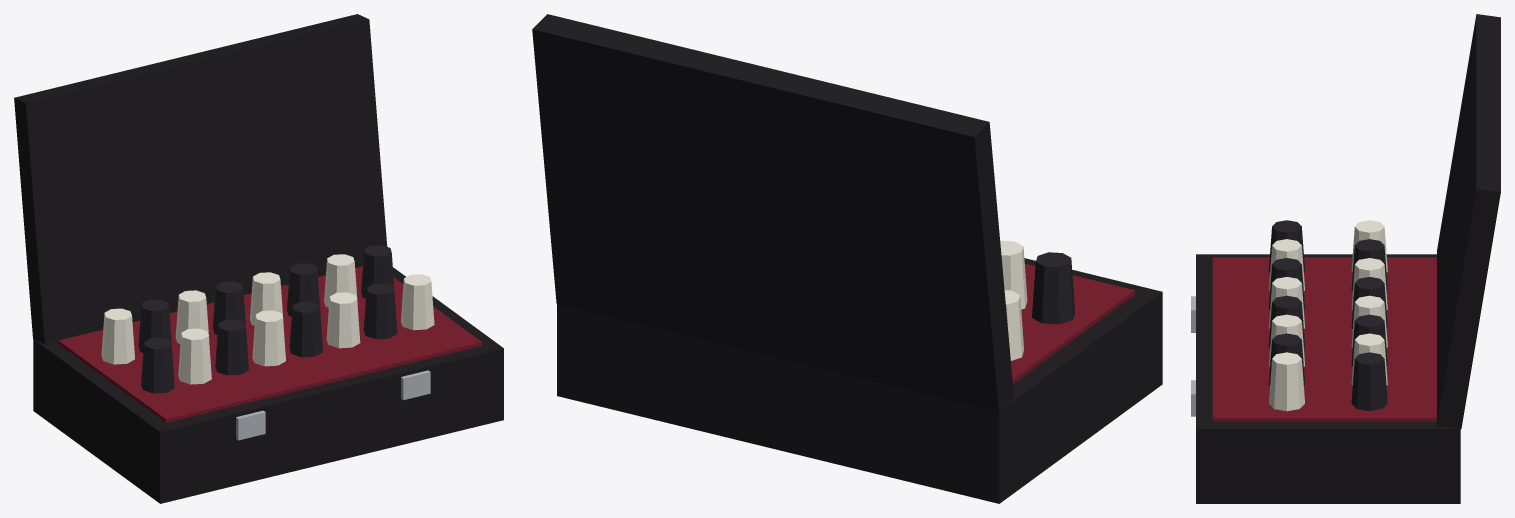
The model's file is chess_briefcase.glb.
The picture shows the model from 3 angles, left to right: view 1: azimuth 30°, elevation 25°; view 2: azimuth 150°, elevation 25°; view 3: azimuth 270°, elevation 25°; orthographic projection. The views are drawn at different scales.
Visible parts, largest first — view 1: lid_briefcase_leather, case_briefcase_leather, case_briefcase_lining, pieces_chess_piece_white, pieces_chess_piece_black, locks_briefcase_steel; view 2: lid_briefcase_leather, case_briefcase_leather, case_briefcase_lining, pieces_chess_piece_black, pieces_chess_piece_white; view 3: case_briefcase_lining, case_briefcase_leather, lid_briefcase_leather, pieces_chess_piece_white, pieces_chess_piece_black, locks_briefcase_steel.
Part boxes in pixels (x1,y1,x2,y2): lid_briefcase_leather: (14,14,387,344); case_briefcase_leather: (33,267,503,503); case_briefcase_lining: (56,266,482,422); pieces_chess_piece_white: (101,254,434,384); pieces_chess_piece_black: (138,245,397,393); locks_briefcase_steel: (236,370,430,440); lid_briefcase_leather: (532,14,1013,411); case_briefcase_leather: (557,258,1162,503); case_briefcase_lining: (1011,263,1134,383); pieces_chess_piece_black: (1032,252,1075,324); pieces_chess_piece_white: (1000,240,1027,360); case_briefcase_lining: (1212,257,1436,421); case_briefcase_leather: (1196,254,1460,503); lid_briefcase_leather: (1437,14,1500,428); pieces_chess_piece_white: (1268,220,1387,411); pieces_chess_piece_black: (1268,220,1387,411); locks_briefcase_steel: (1191,296,1195,416).
Bounding box in the file's own units: 0.5 × 0.4204 × 0.3747.
